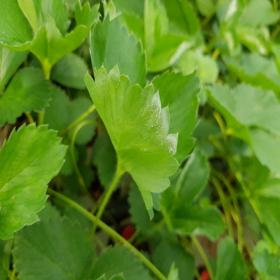Powdery Mildew Leaf: (84, 64, 182, 221)
